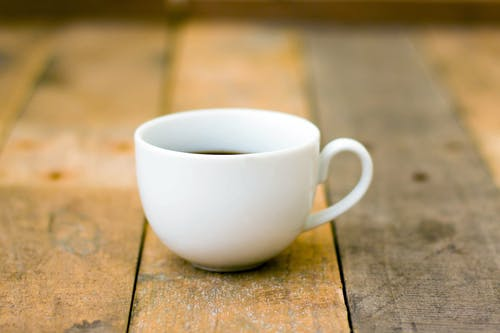cup: (131, 107, 380, 273)
